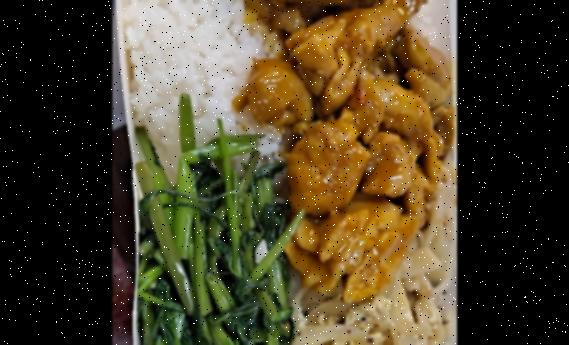box: (116, 0, 457, 345)
curry chicken: (227, 0, 457, 303)
side dish: (147, 183, 285, 345), (292, 277, 457, 345)
white rice: (127, 0, 274, 164)
